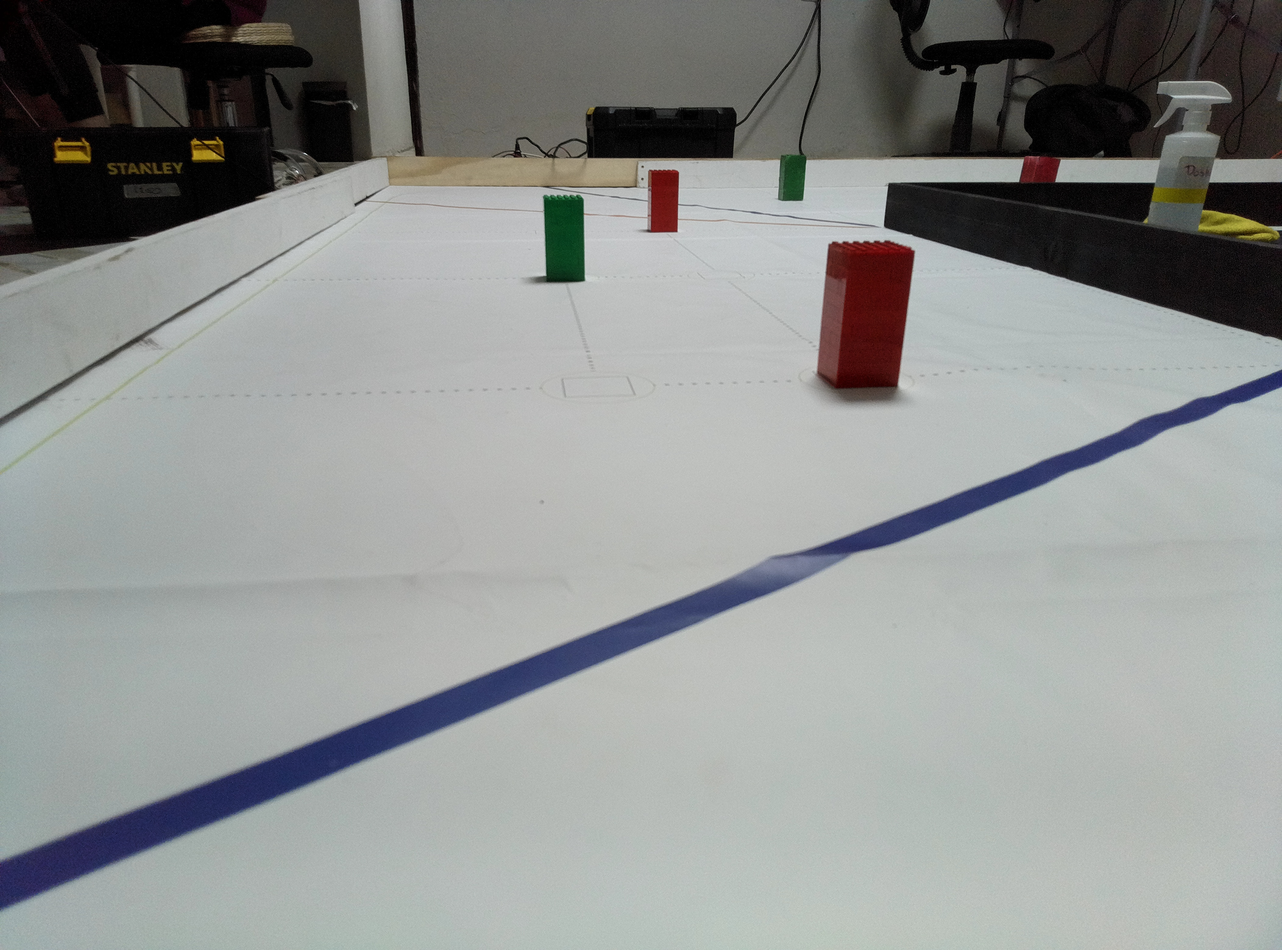greenbox: (540, 194, 587, 284), (777, 154, 807, 202)
redbox: (815, 238, 916, 393), (647, 169, 679, 233), (1018, 155, 1061, 182), (914, 315, 916, 316)
